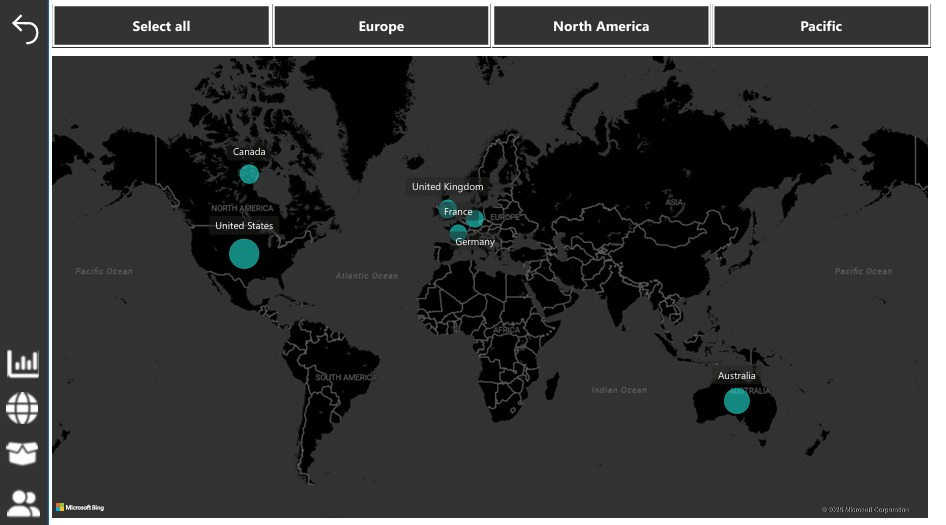

Layout of this report page (visuals, bound fields, positions):
{"tool":"powerbi","page":{"name":"Map","canvas":[1280,720],"ordinal":1},"visuals":[{"type":"map","fields":{"Category":["Territory Lookup.Country"],"Size":["Measure Table.Total Orders"]},"box":[67.5,72.5,1190,632.5],"z":0},{"type":"actionButton","box":[8.8,466.8,57.1,49.8],"z":1000,"group":"g1"},{"type":"slicer","fields":{"Values":["Territory Lookup.Continent"]},"box":[46,0,1234,72],"z":1000},{"type":"shape","box":[0,0,67.3,720],"z":2000},{"type":"actionButton","box":[7.3,526.8,57.1,49.8],"z":2000,"group":"g1"},{"type":"actionButton","box":[8.8,654.1,57.1,51.2],"z":3000,"group":"g1"},{"type":"group","id":"g1","title":"Navigation Buttons","box":[7.3,466.8,58.5,238.5],"z":3000},{"type":"actionButton","box":[10,15,51.7,51.7],"z":4000},{"type":"actionButton","box":[7.3,588.3,57.1,49.8],"z":5000,"group":"g1"}]}

Visuals, with their boxes in screenshot pixels (x1, y1, x2, y2):
map - Territory Lookup.Country x Measure Table.Total Orders: l=48, t=54, r=904, b=509
actionButton: l=6, t=338, r=47, b=374
slicer - Territory Lookup.Continent: l=33, t=2, r=920, b=54
shape: l=0, t=2, r=48, b=520
actionButton: l=5, t=381, r=46, b=417
actionButton: l=6, t=473, r=47, b=509
"Navigation Buttons" group: l=5, t=338, r=47, b=509
actionButton: l=7, t=13, r=44, b=50
actionButton: l=5, t=425, r=46, b=461
